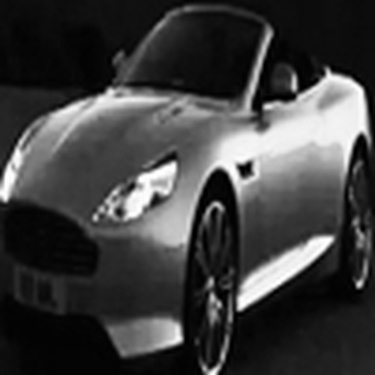car: (2, 4, 372, 371)
